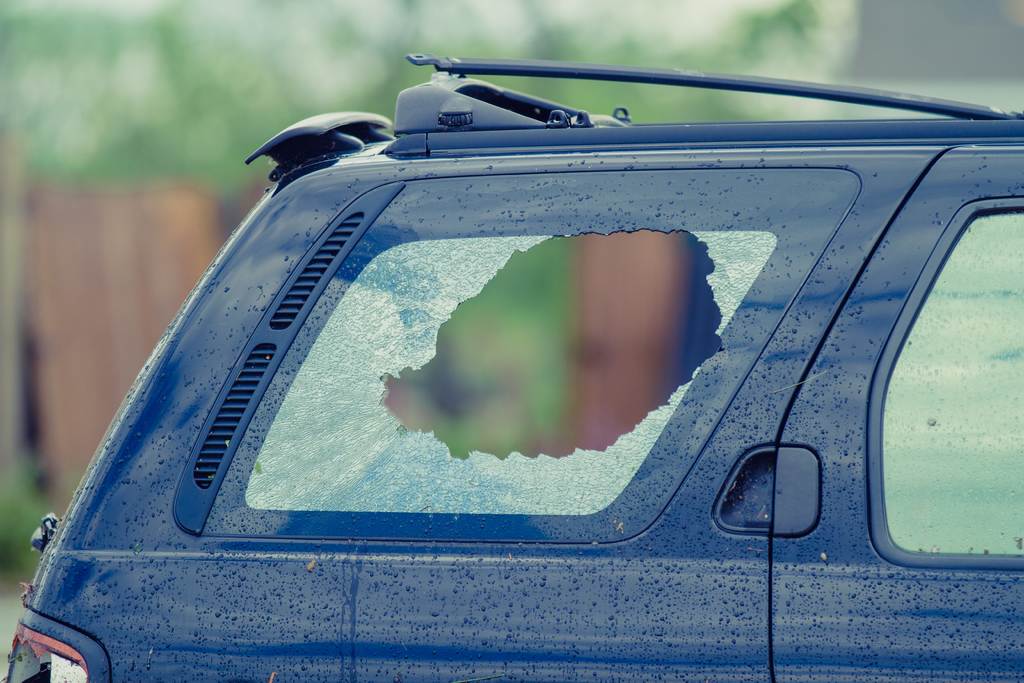Car: (0, 53, 1024, 682)
